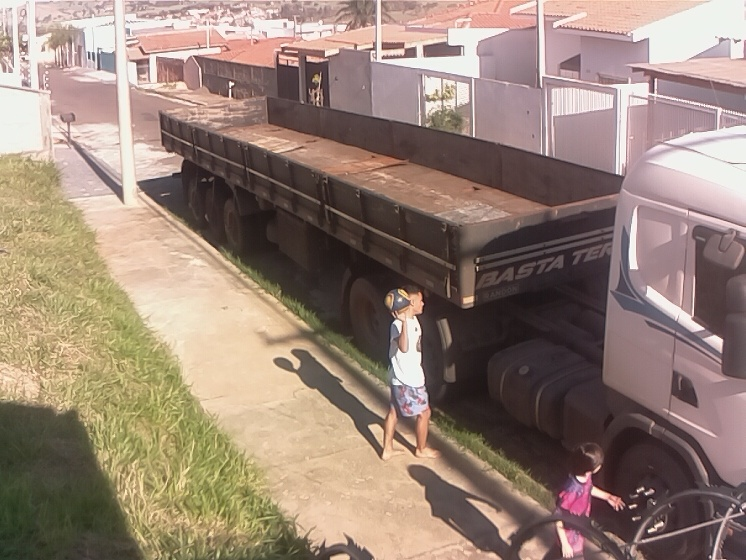person: (379, 283, 444, 464), (538, 439, 629, 560)
